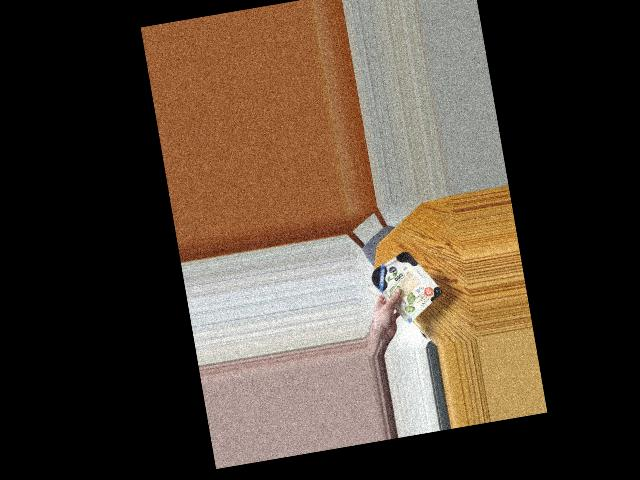cheese: (367, 242, 439, 318)
